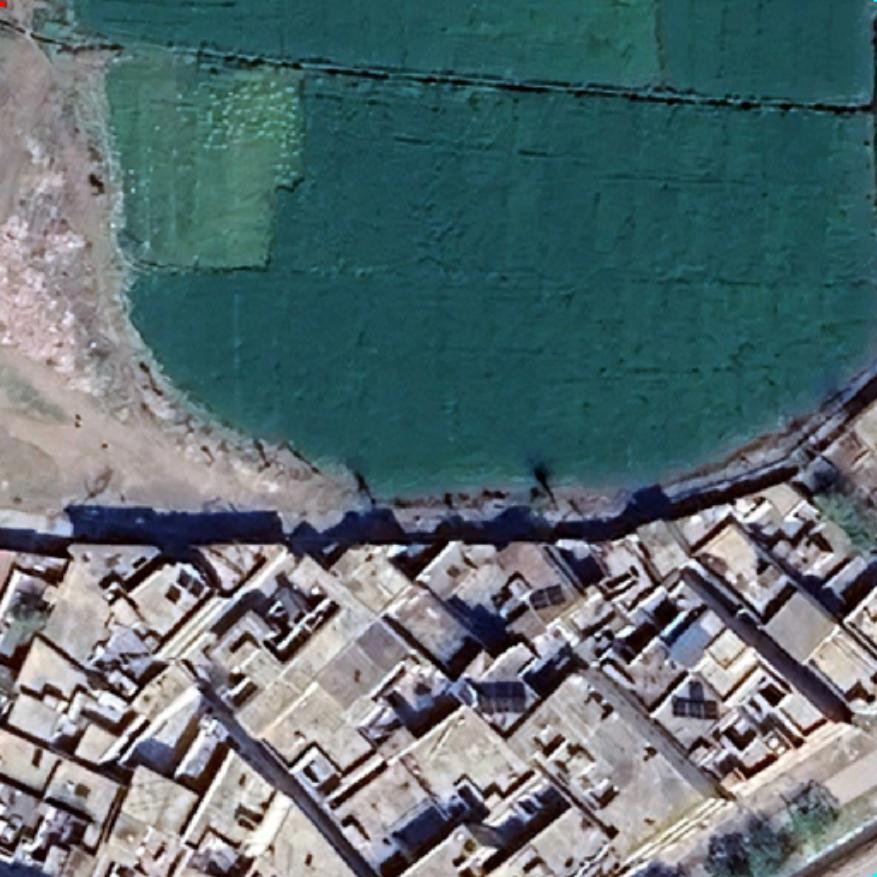Solarpanel: (472, 678, 530, 716), (526, 580, 570, 614), (669, 695, 721, 723)
